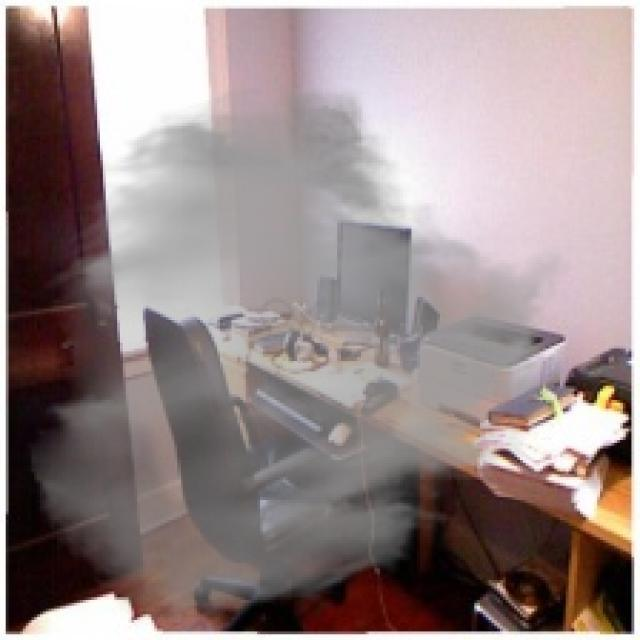Smoke: (26, 80, 574, 629)
